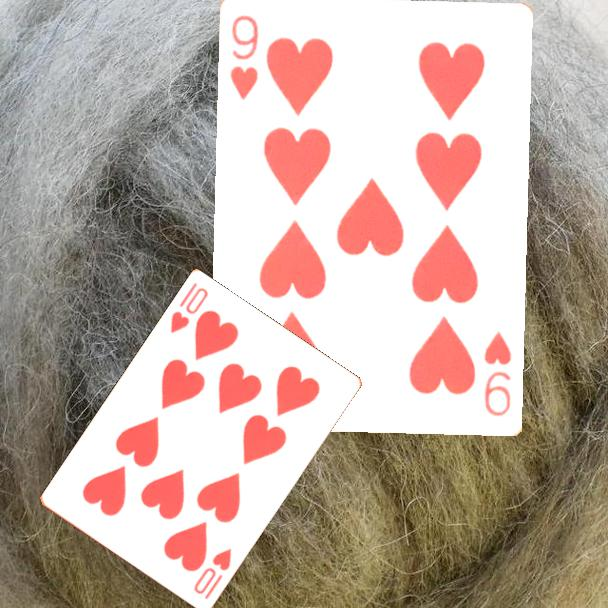h09: (227, 12, 262, 103), (481, 328, 515, 419)
h10: (190, 545, 235, 603), (167, 279, 211, 337)
